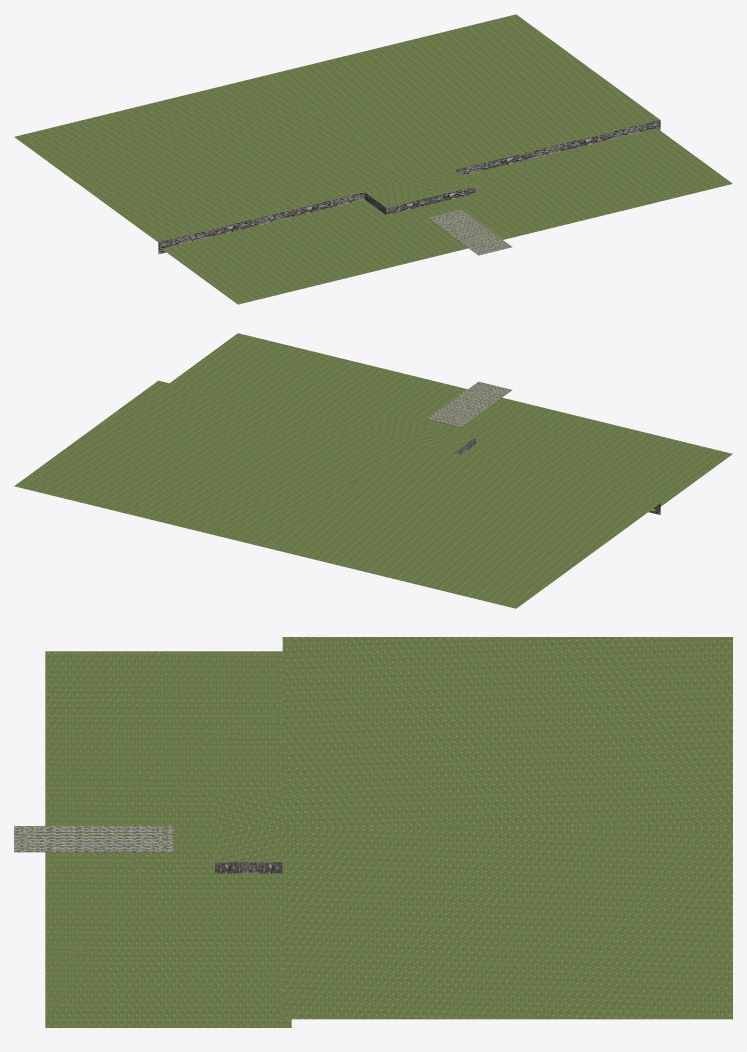
File: piso_templos.fbx
3 renders of one model, top to bottom at view 1: azimuth 30°, elevation 25°; view 2: azimuth 150°, elevation 25°; view 3: azimuth 270°, elevation 25°, orthographic. The views are drawn at different scales.
Visible parts, largest first — view 1: Muro_Rod.002; view 2: Muro_Rod.002; view 3: Muro_Rod.002.
Boxes of the visible parts, x1,y1,x2,y2 form: Muro_Rod.002: [14, 14, 732, 304]; Muro_Rod.002: [14, 333, 732, 608]; Muro_Rod.002: [14, 637, 732, 1027].
Size of the model in its own units: 1770 by 40.19 by 1407.
3 materials, 3 textured.
